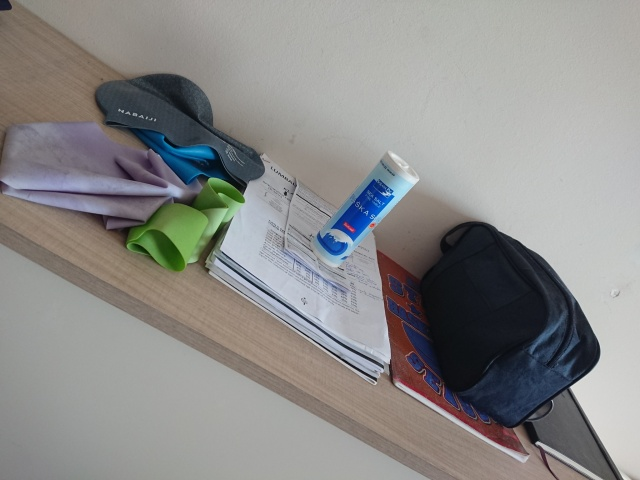Solana Pag Fine Sea Salt 250g: (308, 147, 422, 271)
